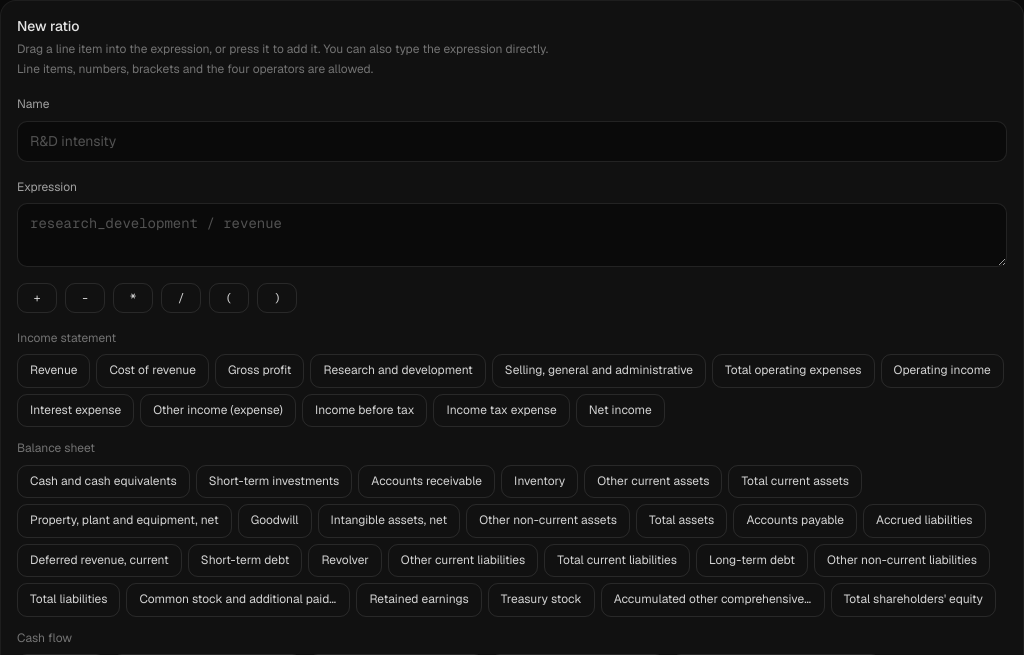
Test case: building an expression › joins the second addition with an operator rather than running the words together
What coordinates should you click on to do the following:
click the button with aria-label "add Revenue to the expression"
I would click on:
 (54, 371)
Its box is [17,354,90,388].
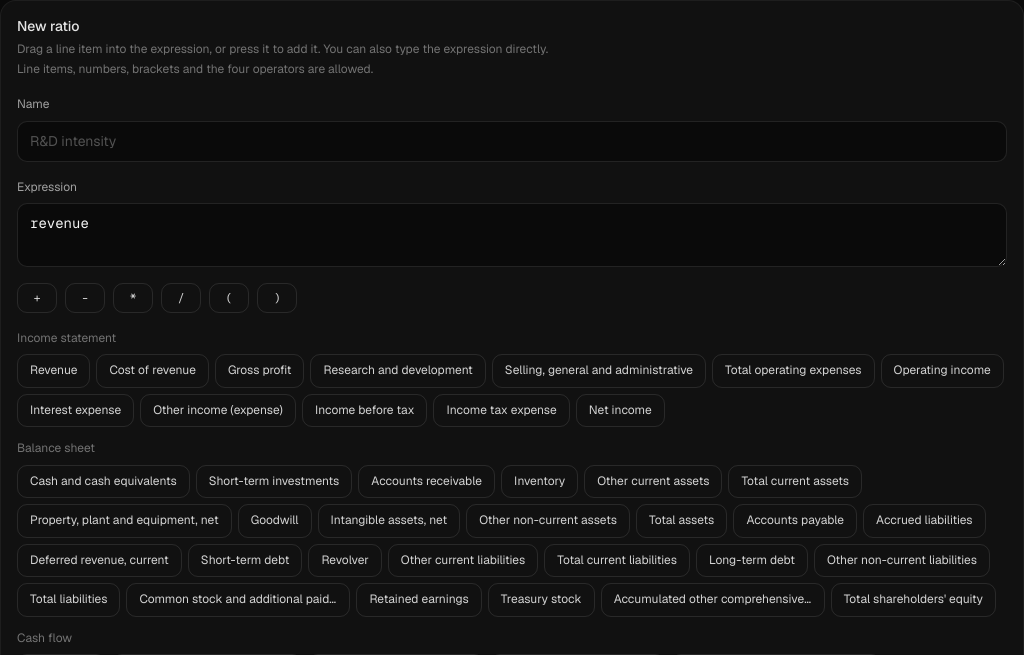
What coordinates should you click on to do the following:
click the button named "divide"
I would click on:
 (181, 298)
Its box is [161,282,201,312].
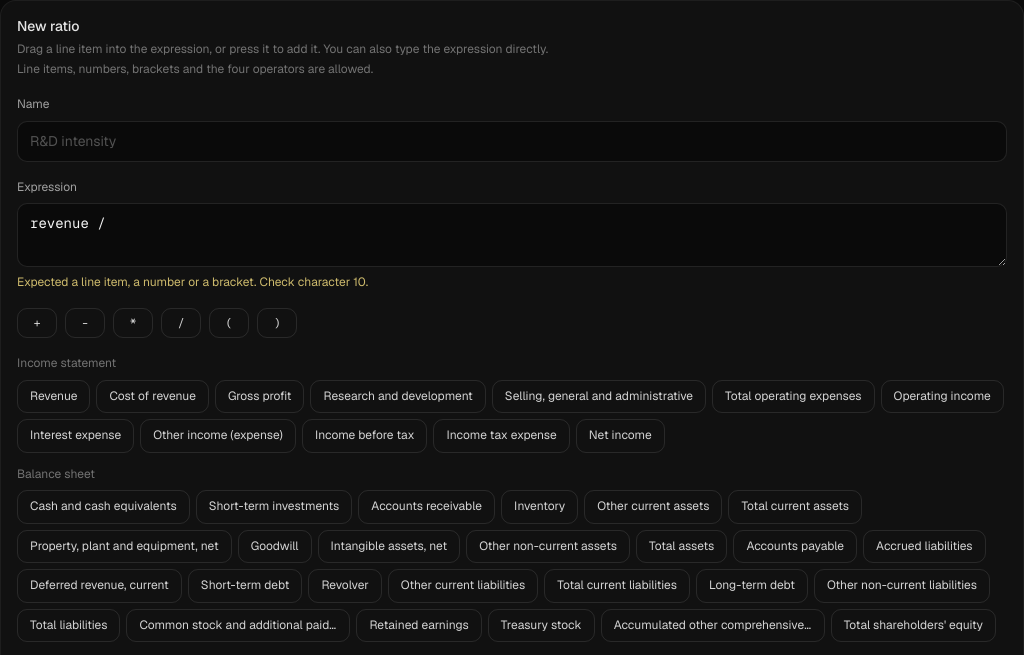
What coordinates should you click on to do the following:
click the button with aria-label "add Total assets to the expression"
I would click on:
 (682, 546)
Its box is [636,530,727,563].
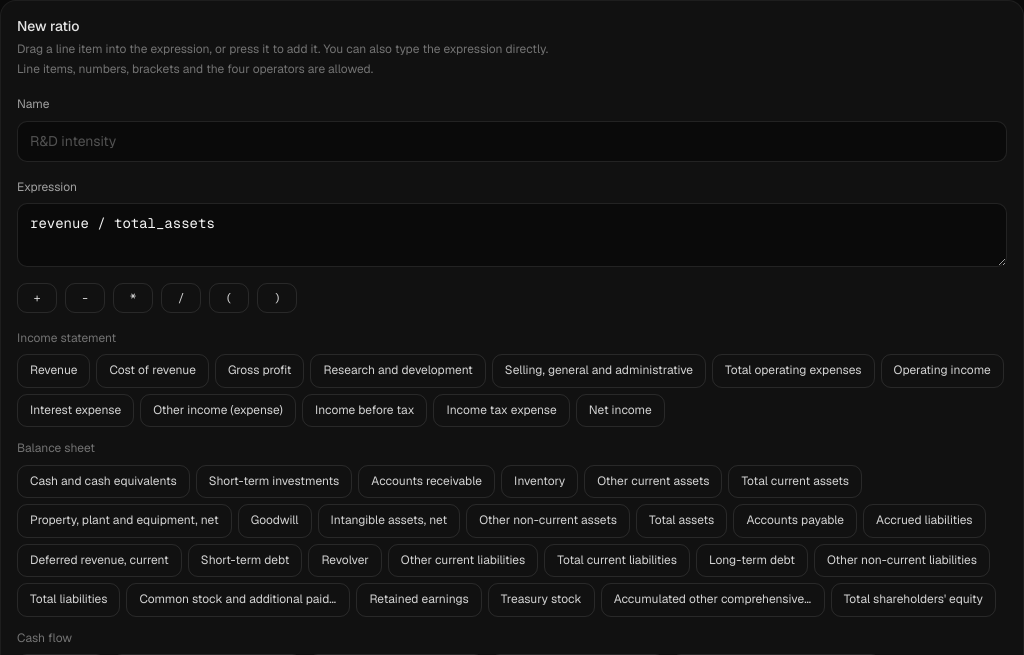
Expected: the text box labelled "Expression" holds "revenue / total_assets", [17,203,1007,266]
